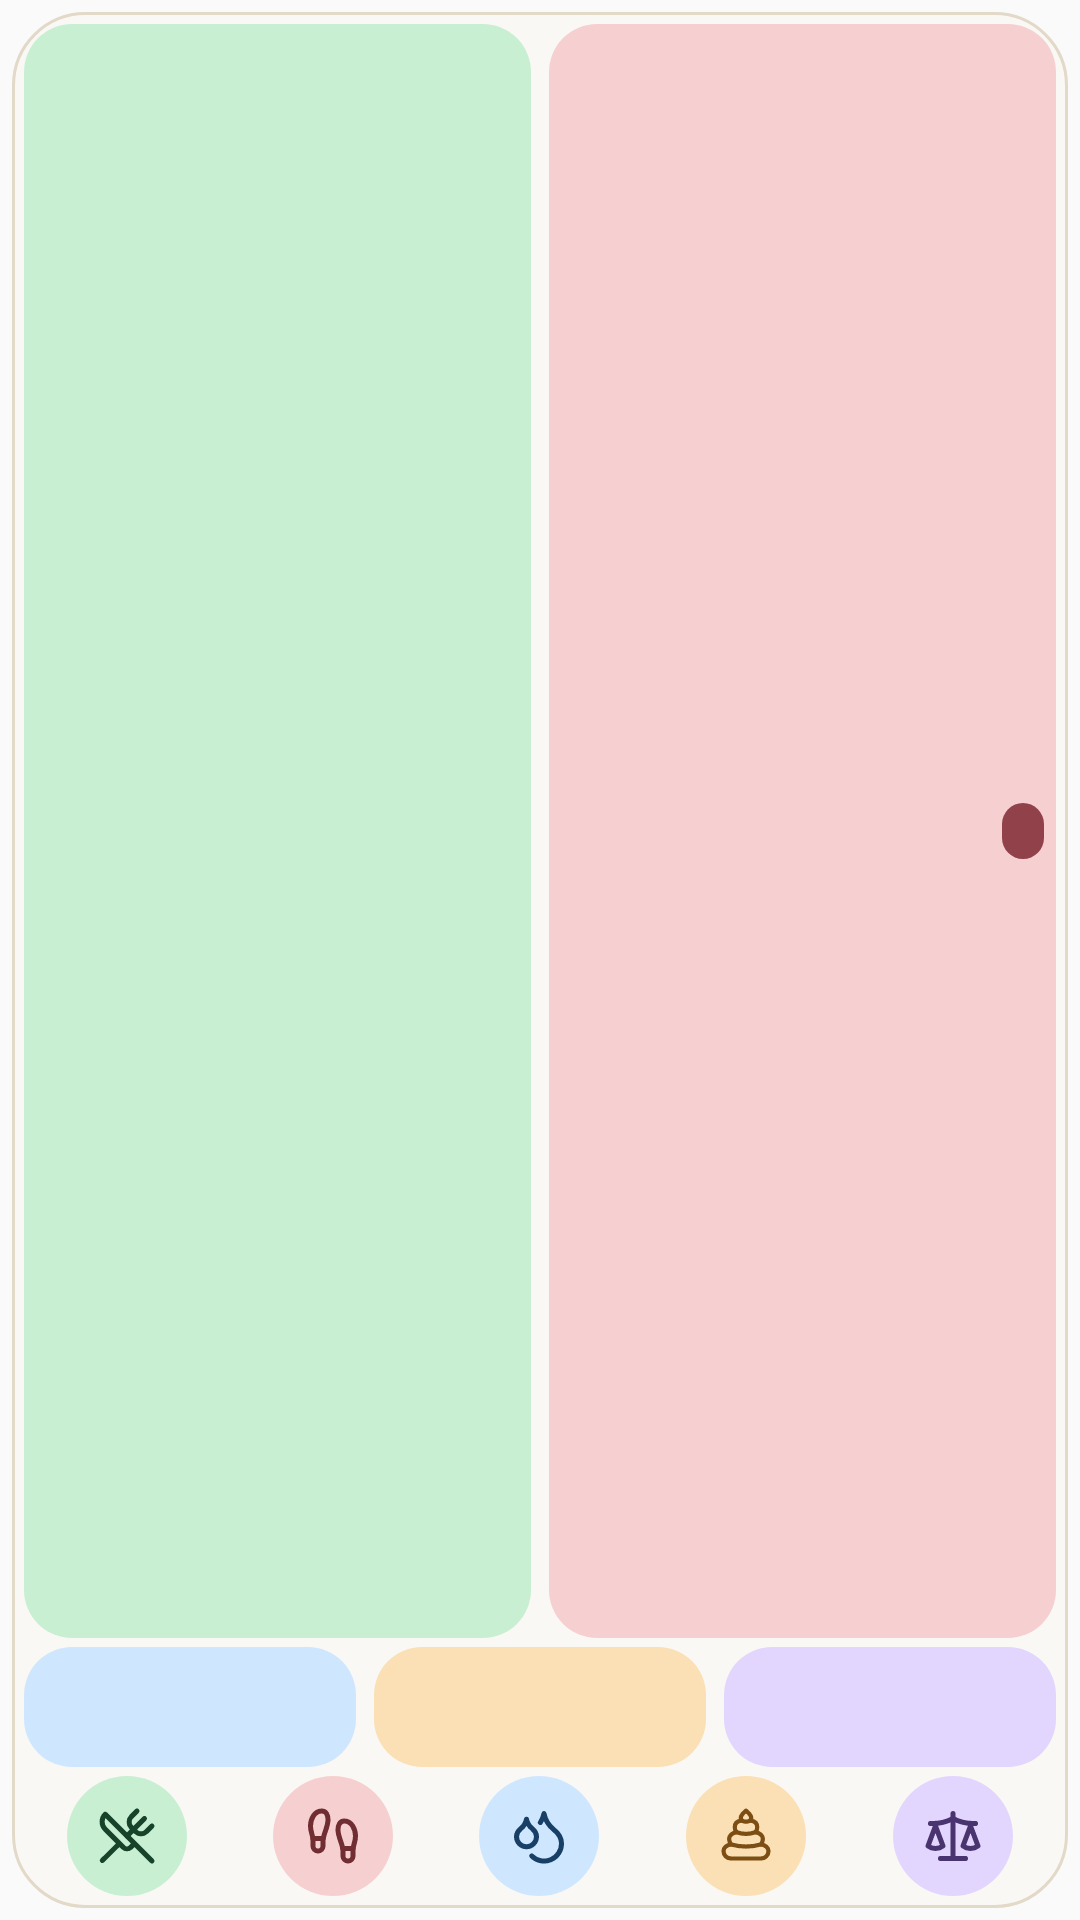

Where to tap for icons on this 1080*1920 app screen, as (x,y):
Food: (127,1836)
Movement: (333,1836)
Poop: (746,1836)
Water: (539,1836)
Weight: (953,1836)
